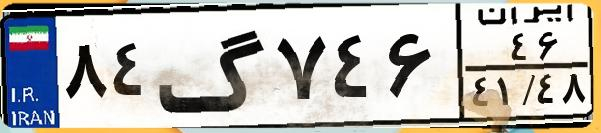1: (495, 70, 520, 125)
4: (330, 28, 385, 110), (110, 28, 156, 98), (508, 27, 537, 80), (470, 70, 495, 125), (535, 70, 560, 125)
6: (385, 28, 445, 110), (537, 27, 568, 80)
7: (270, 28, 330, 110)
8: (57, 26, 110, 100), (560, 70, 590, 125)
گ: (156, 12, 270, 120)
